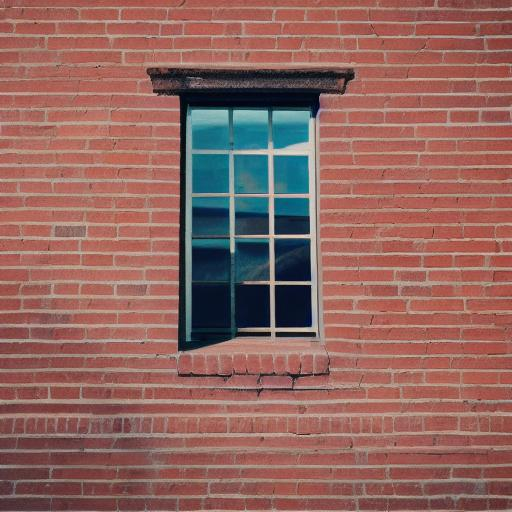Window: (145, 63, 358, 383)
